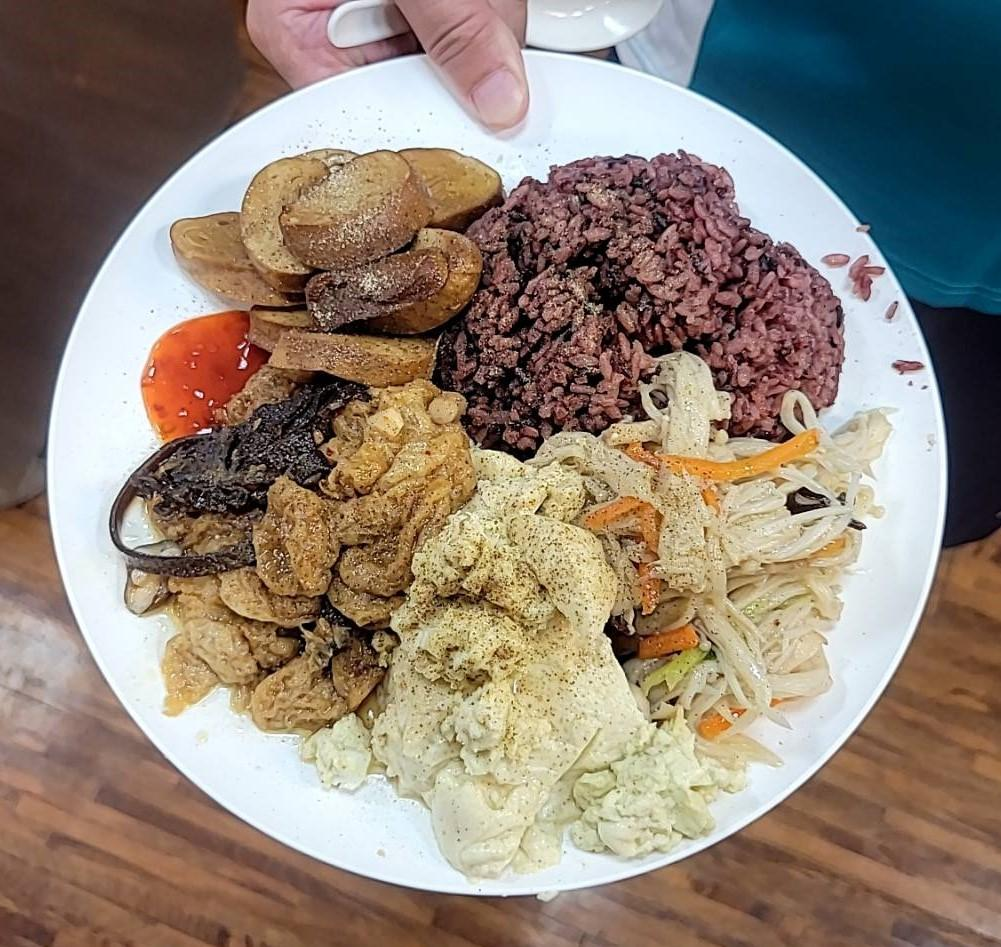big fried chicken leg: (27, 36, 972, 916)
braised fish: (449, 140, 842, 463)
braised fish fillet: (122, 364, 482, 733), (370, 460, 660, 877), (578, 386, 887, 756), (159, 130, 500, 390)
